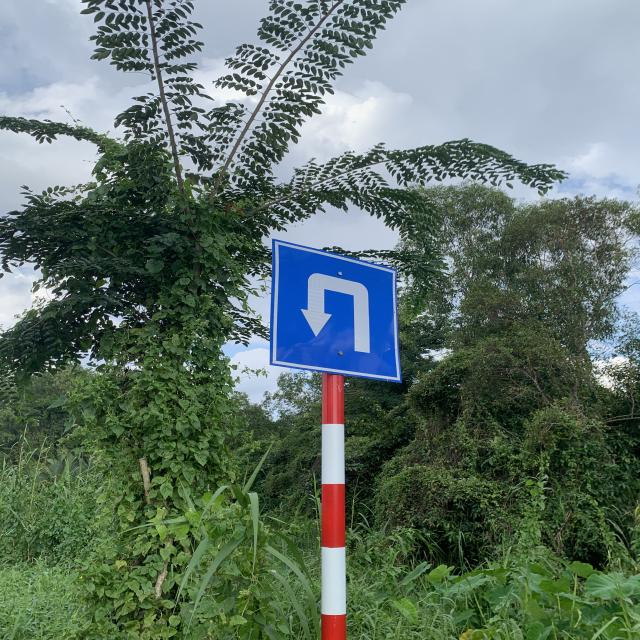Den_Giao_Thong: (276, 250, 394, 373)
